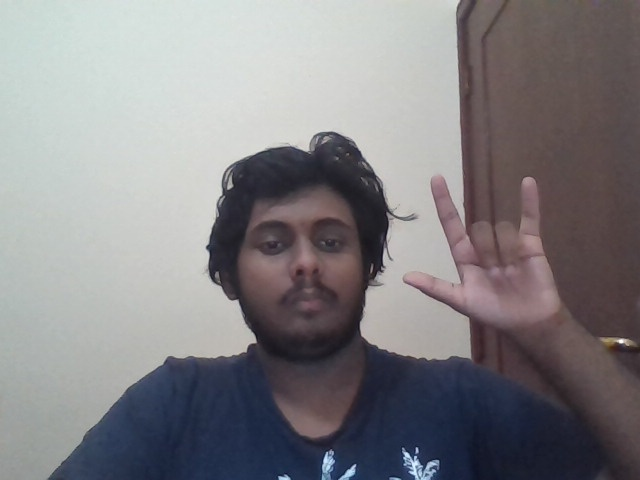iloveyou: (402, 174, 563, 333)
